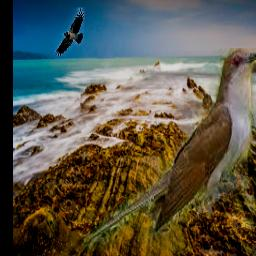Crow: (53, 9, 84, 57)
Cuckoo: (76, 49, 256, 252)
